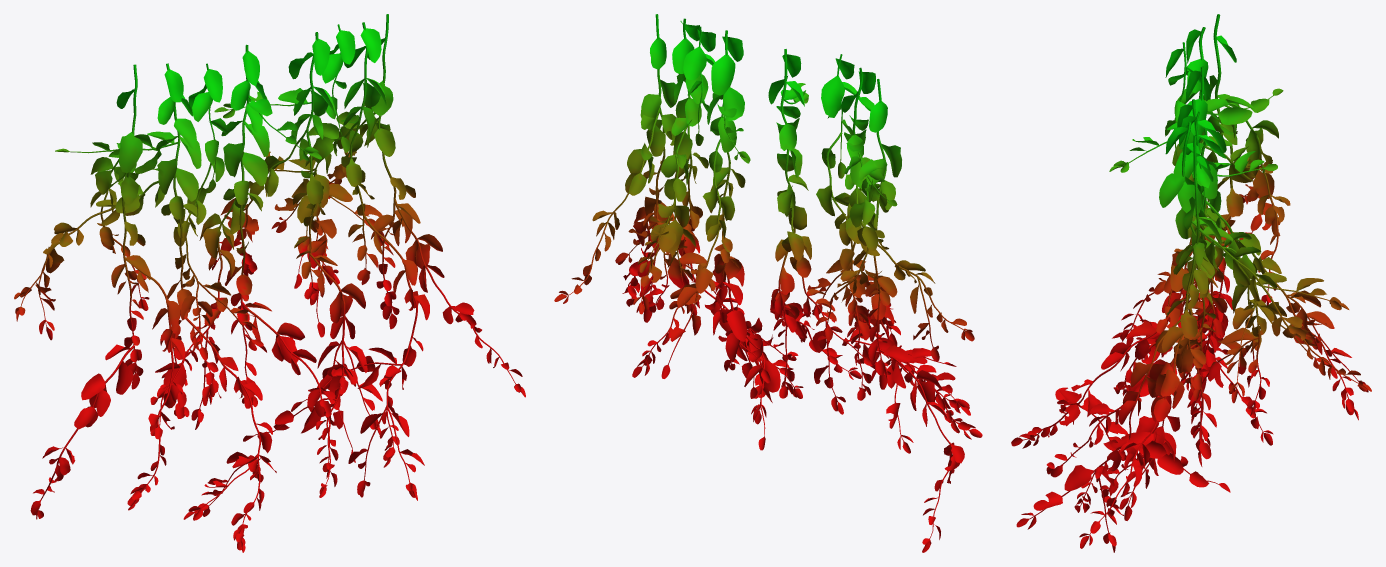
The model's file is DroppingPlantVar11_LOD0.fbx.
3 views of the same model, side by side, from view 1: azimuth 30°, elevation 25°; view 2: azimuth 150°, elevation 25°; view 3: azimuth 270°, elevation 25° (orthographic). The views are drawn at different scales.
Parts seen in each view (by area): view 1: _r3cb_Var11_LOD0; view 2: _r3cb_Var11_LOD0; view 3: _r3cb_Var11_LOD0.
Part boxes in pixels (left/top/right/bottom): _r3cb_Var11_LOD0: left=14, top=14, right=525, bottom=552; _r3cb_Var11_LOD0: left=554, top=14, right=982, bottom=552; _r3cb_Var11_LOD0: left=1011, top=14, right=1371, bottom=552.
Bounding box in the file's own units: 109 × 109 × 76.23.
